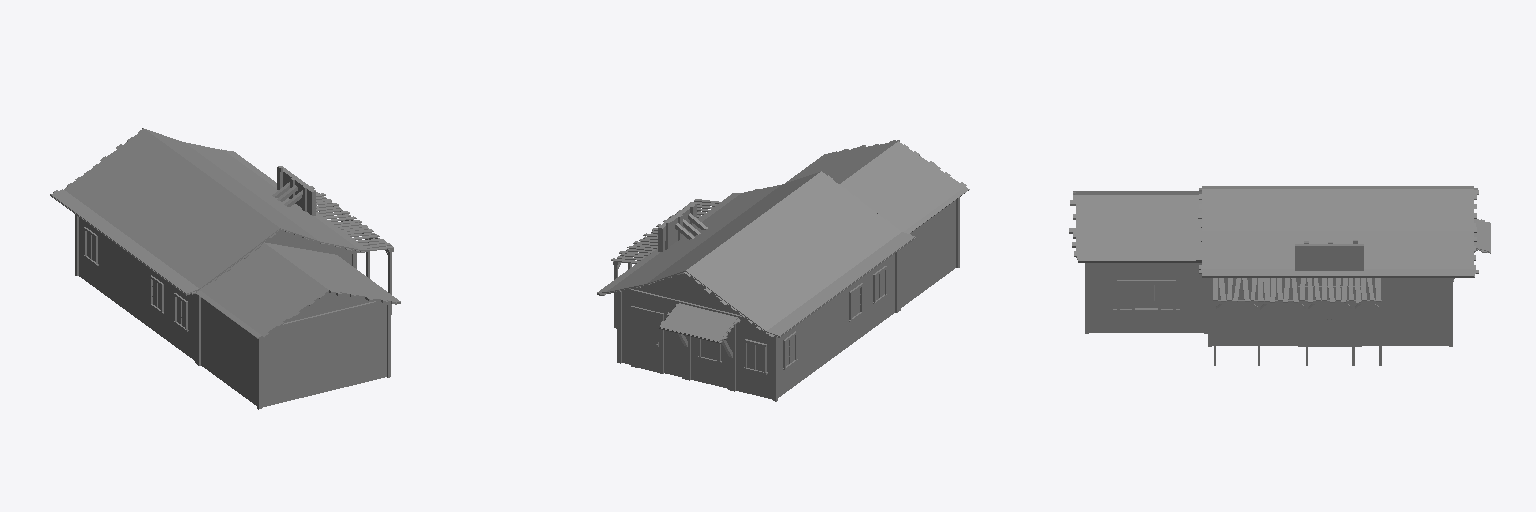
Rendered from trainStation.obj.
3 renders of one model, left to right at view 1: azimuth 30°, elevation 25°; view 2: azimuth 150°, elevation 25°; view 3: azimuth 270°, elevation 25°, orthographic.
Visible parts, largest first — view 1: Gare; view 2: Gare; view 3: Gare.
Boxes of the visible parts, x1=… form: Gare: x1=50, y1=128, x2=400, y2=409; Gare: x1=597, y1=140, x2=969, y2=401; Gare: x1=1069, y1=186, x2=1490, y2=365.
Size of the model in its own units: 323 by 170 by 543.